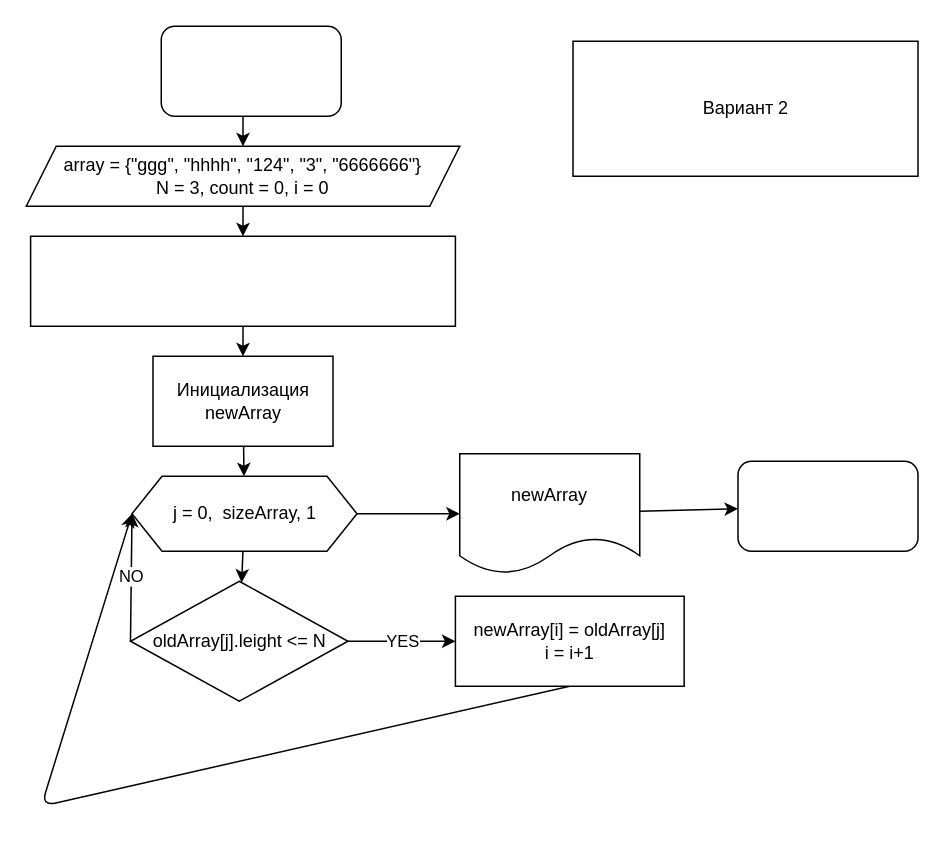
Some shapes in this 945 by 845 pixel diagram are drawn without their labels. The box of each missing label's shape, as (x1, y1, x2, y2) in pixels:
End: (736, 460, 918, 551)
Start: (160, 25, 341, 116)
Подсчет количества элементоа, которое нужно записать в новый массив (sizeArray): (29, 235, 455, 326)
